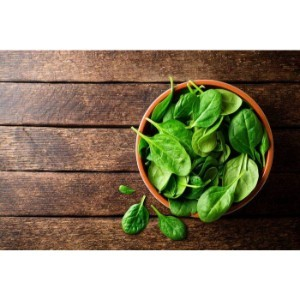spinach_brain food: (130, 82, 271, 227)
